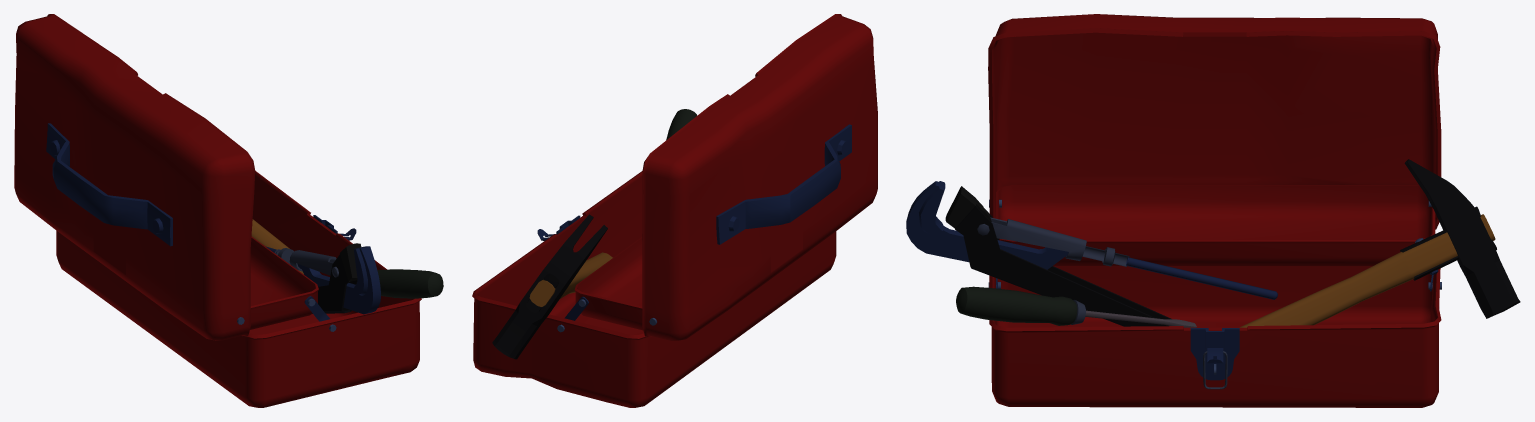
The model's file is Toolbox.obj.
3 views of the same model, side by side, from view 1: azimuth 30°, elevation 25°; view 2: azimuth 150°, elevation 25°; view 3: azimuth 270°, elevation 25° (orthographic). The views are drawn at different scales.
Visible parts, largest first — view 1: kryshka_lp, dno_lp, CylinderFBXASC046016, ruchka_lp, CubeFBXASC046047, kolco_lp1, CubeFBXASC046048, obves_lp; view 2: kryshka_lp, dno_lp, CubeFBXASC046048, ruchka_lp, CubeFBXASC046047, kolco_lp1, obves_lp; view 3: kryshka_lp, dno_lp, CubeFBXASC046047, CylinderFBXASC046016, CubeFBXASC046048, kolco_lp1, CubeFBXASC046046.
Part boxes in pixels (x1,y1,x2,y2): kryshka_lp: (14,14,255,340); dno_lp: (56,171,421,407); CylinderFBXASC046016: (266,243,380,314); ruchka_lp: (46,123,172,246); CubeFBXASC046047: (250,236,318,329); kolco_lp1: (377,269,443,298); CubeFBXASC046048: (251,219,303,274); obves_lp: (237,296,336,331); kryshka_lp: (642,14,877,340); dno_lp: (472,171,836,407); CubeFBXASC046048: (492,214,612,359); ruchka_lp: (716,124,851,244); CubeFBXASC046047: (574,237,642,330); kolco_lp1: (666,109,697,140); obves_lp: (557,296,656,332); kryshka_lp: (988,14,1441,229); dno_lp: (989,266,1441,407); CubeFBXASC046047: (996,185,1435,266); CylinderFBXASC046016: (906,181,1277,326); CubeFBXASC046048: (1239,159,1520,327); kolco_lp1: (956,286,1196,327); CubeFBXASC046046: (1190,328,1239,380).
Bounding box in the file's own units: 5.08 × 4.7 × 8.8.
